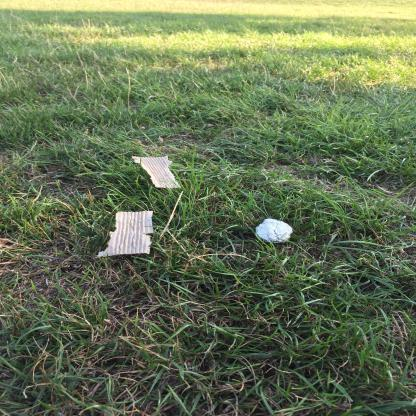cardboard: (96, 210, 154, 259), (132, 155, 182, 188)
metal: (255, 218, 293, 243)
